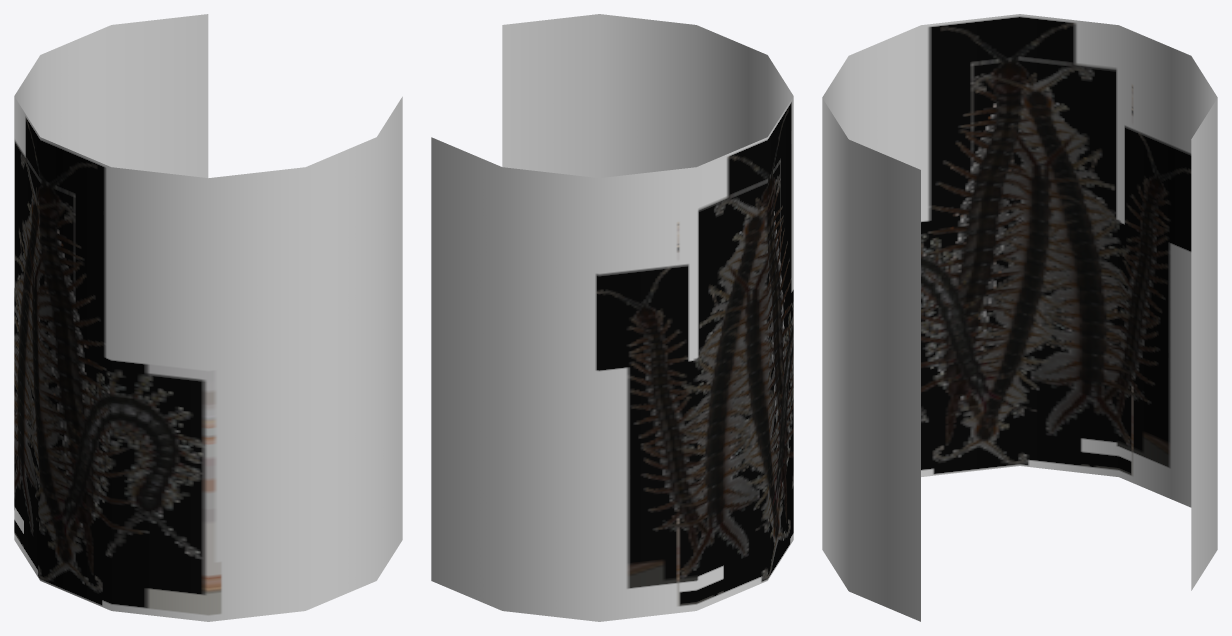
Rendered from Props_Roh_Containment_004.FBX.
3 renders of one model, left to right at view 1: azimuth 30°, elevation 25°; view 2: azimuth 150°, elevation 25°; view 3: azimuth 270°, elevation 25°, orthographic.
Parts seen in each view (by area): view 1: Props_Roh_Containment_004; view 2: Props_Roh_Containment_004; view 3: Props_Roh_Containment_004.
Boxes of the visible parts, bbox=[...] form: Props_Roh_Containment_004: bbox=[14, 14, 402, 621]; Props_Roh_Containment_004: bbox=[431, 14, 793, 621]; Props_Roh_Containment_004: bbox=[822, 14, 1217, 621].
Bounding box in the file's own units: 6.33 × 8.55 × 6.78.
